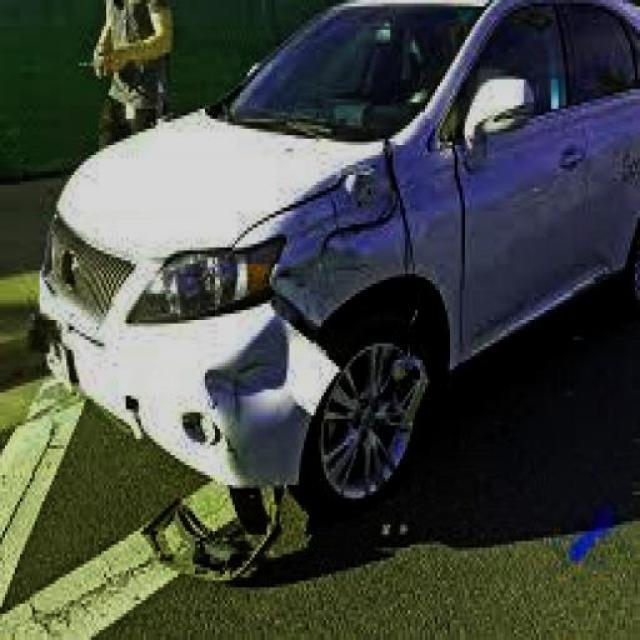car damage: (190, 136, 448, 506)
